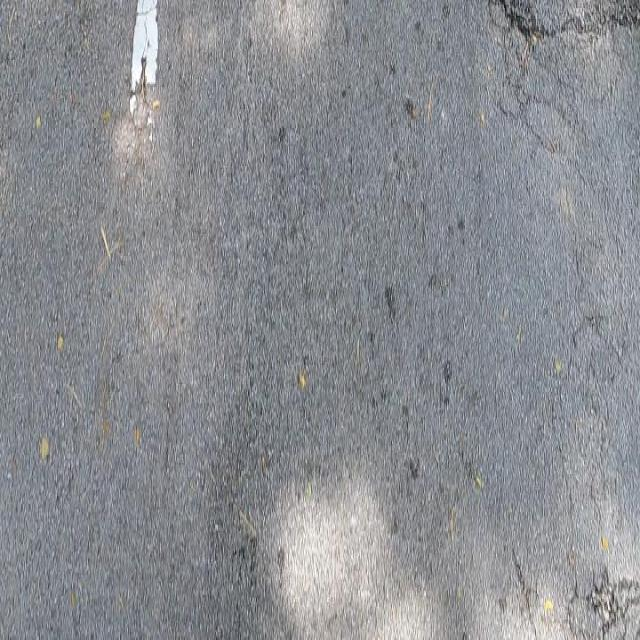cracks: (476, 0, 639, 146), (490, 502, 640, 640)
